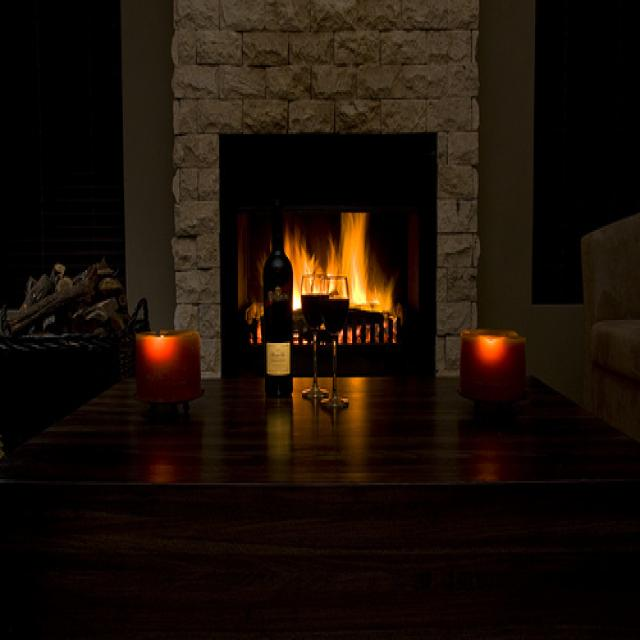Bottle: (256, 215, 291, 422)
Cup: (305, 254, 340, 421), (315, 272, 355, 402)
Table: (13, 327, 640, 640)
